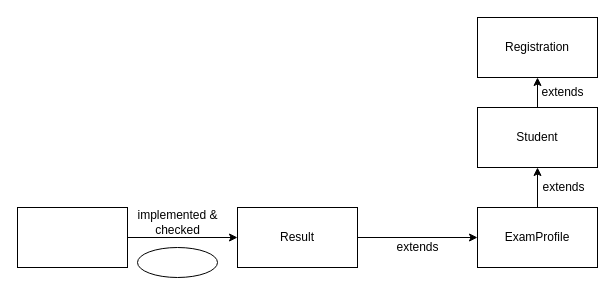
This 615x295 diagram has some shape labels left out. Here are the shapes that lost their labels. From the top down, the centre of each, then its label:
At point 72,237: "Extra curricular".
At point 177,262: "Check for penality".
